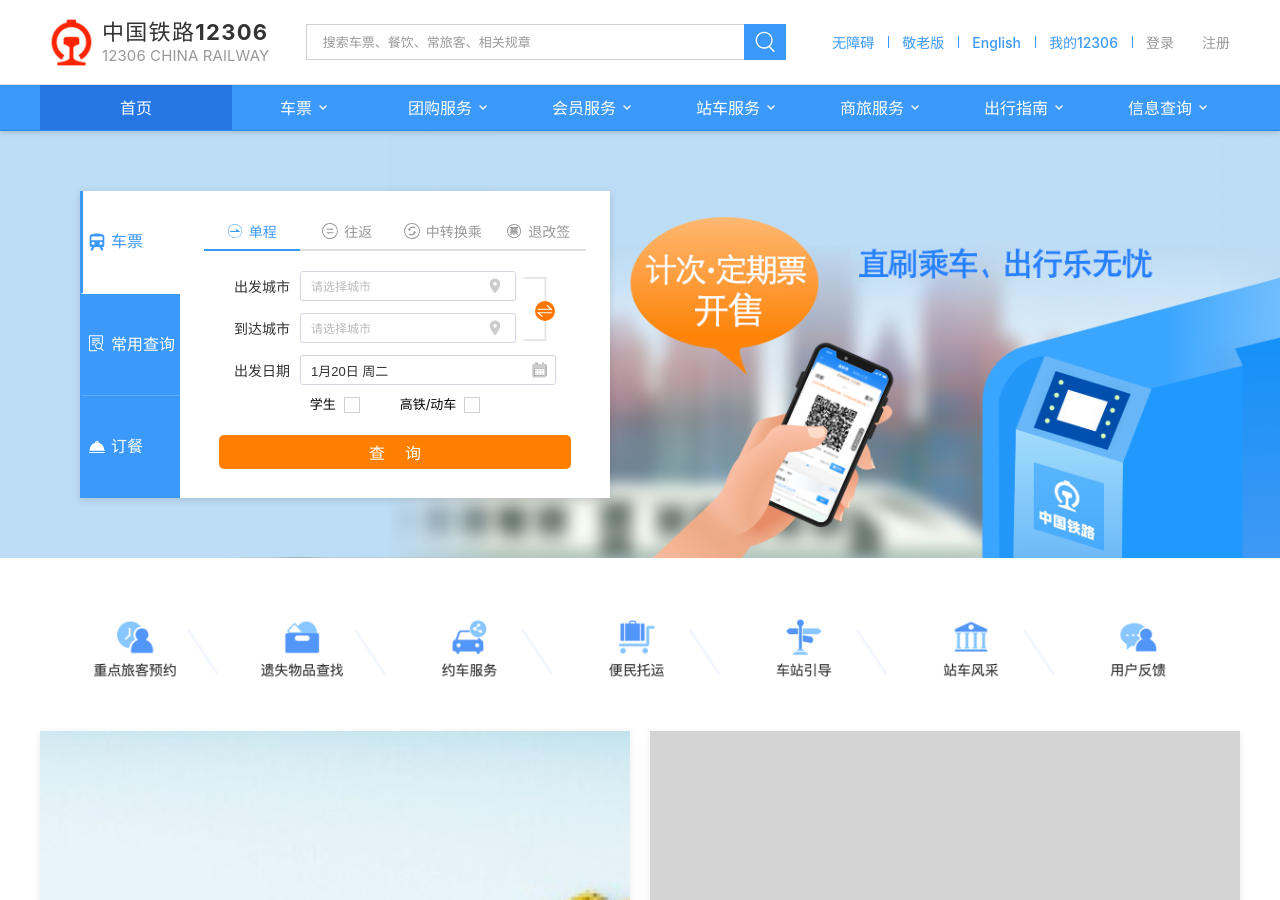
Test: 首页/查询页 - 业务逻辑测试 › 需求1.2.2: 校验用户输入的到达地是否为空 › 用户未输入到达地点击查询，系统提示"请选择到达城市"
# 填写出发地但不填写到达地
Step 1. Type "北京" into the field with placeholder "请选择城市" next to "出发城市" → [408, 286], box [300,271,516,301]
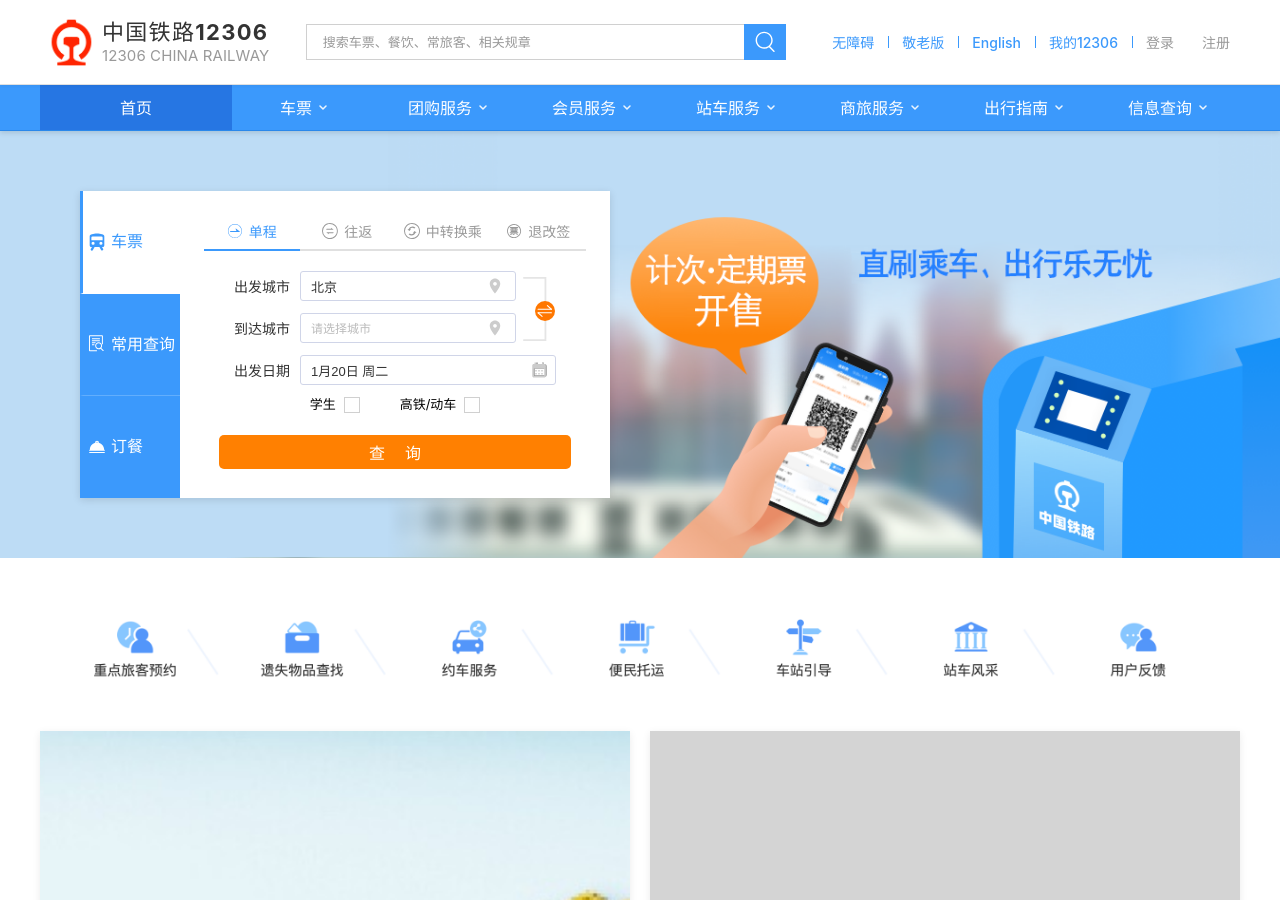
Step 2. Click the button with class "search-button" → [395, 452], box [219,434,571,468]
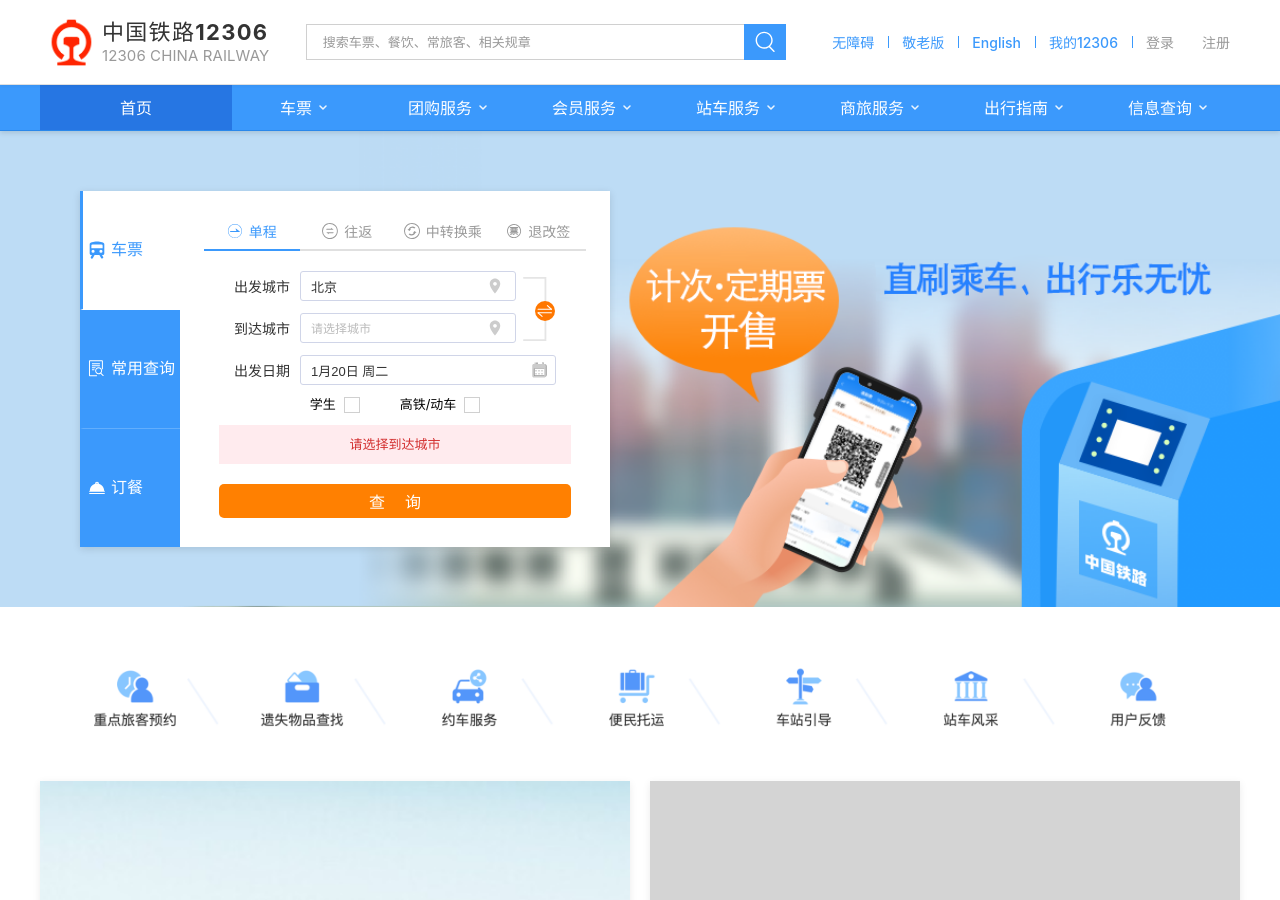
Result: the text "请选择到达城市" is shown at [219,424,571,464]
